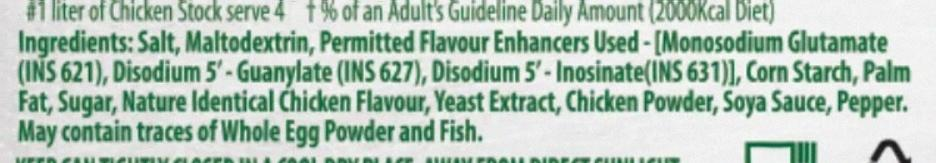ingredients: (13, 18, 918, 154)
